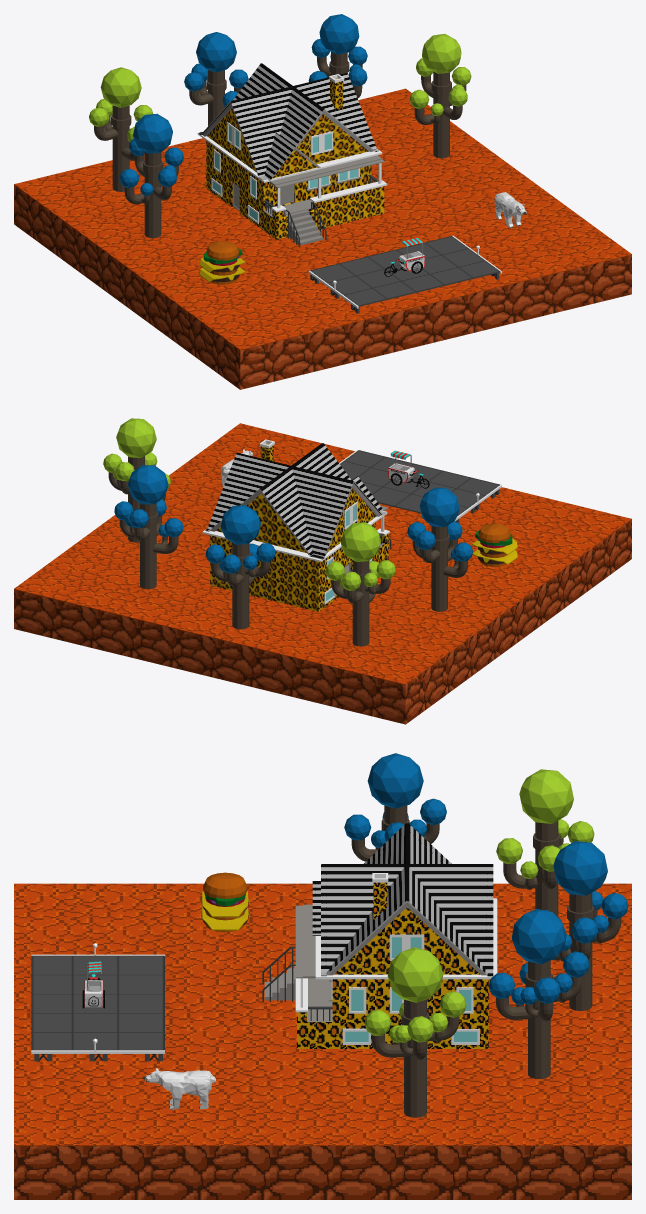
3 views of the same model, one above another, from view 1: azimuth 30°, elevation 25°; view 2: azimuth 150°, elevation 25°; view 3: azimuth 270°, elevation 25° (orthographic). The views are drawn at different scales.
Visible parts, largest first — view 1: Cube.001, Cube.637, OBJRANDOM_HAMBURGER, ANIMAL_OSO_POLAR, VEHICLES_SNOWBAL_BIKE; view 2: Cube.001, Cube.637, OBJRANDOM_HAMBURGER, VEHICLES_SNOWBAL_BIKE; view 3: Cube.001, Cube.637, OBJRANDOM_HAMBURGER, ANIMAL_OSO_POLAR, VEHICLES_SNOWBAL_BIKE.
Boxes of the visible parts, bbox=[...] form: Cube.001: bbox=[14, 14, 631, 389]; Cube.637: bbox=[197, 63, 387, 246]; OBJRANDOM_HAMBURGER: bbox=[199, 241, 245, 284]; ANIMAL_OSO_POLAR: bbox=[494, 192, 526, 228]; VEHICLES_SNOWBAL_BIKE: bbox=[384, 237, 425, 276]; Cube.001: bbox=[14, 418, 631, 724]; Cube.637: bbox=[202, 439, 391, 611]; OBJRANDOM_HAMBURGER: bbox=[471, 523, 517, 566]; VEHICLES_SNOWBAL_BIKE: bbox=[388, 450, 429, 488]; Cube.001: bbox=[14, 753, 631, 1199]; Cube.637: bbox=[262, 823, 497, 1048]; OBJRANDOM_HAMBURGER: bbox=[201, 872, 249, 932]; ANIMAL_OSO_POLAR: bbox=[142, 1068, 215, 1109]; VEHICLES_SNOWBAL_BIKE: bbox=[82, 961, 105, 1008].
Bounding box in the file's own units: 4000 × 1614 × 4000.
34 materials, 6 textured.
